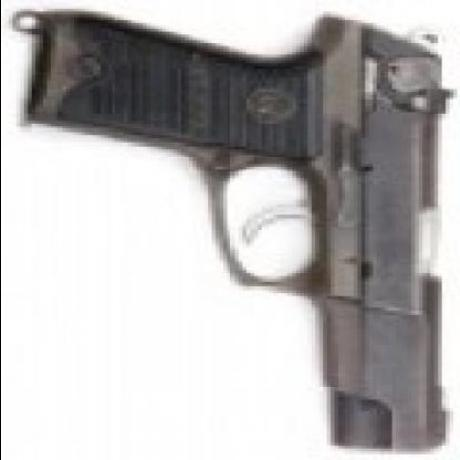weapon: (10, 8, 460, 454)
